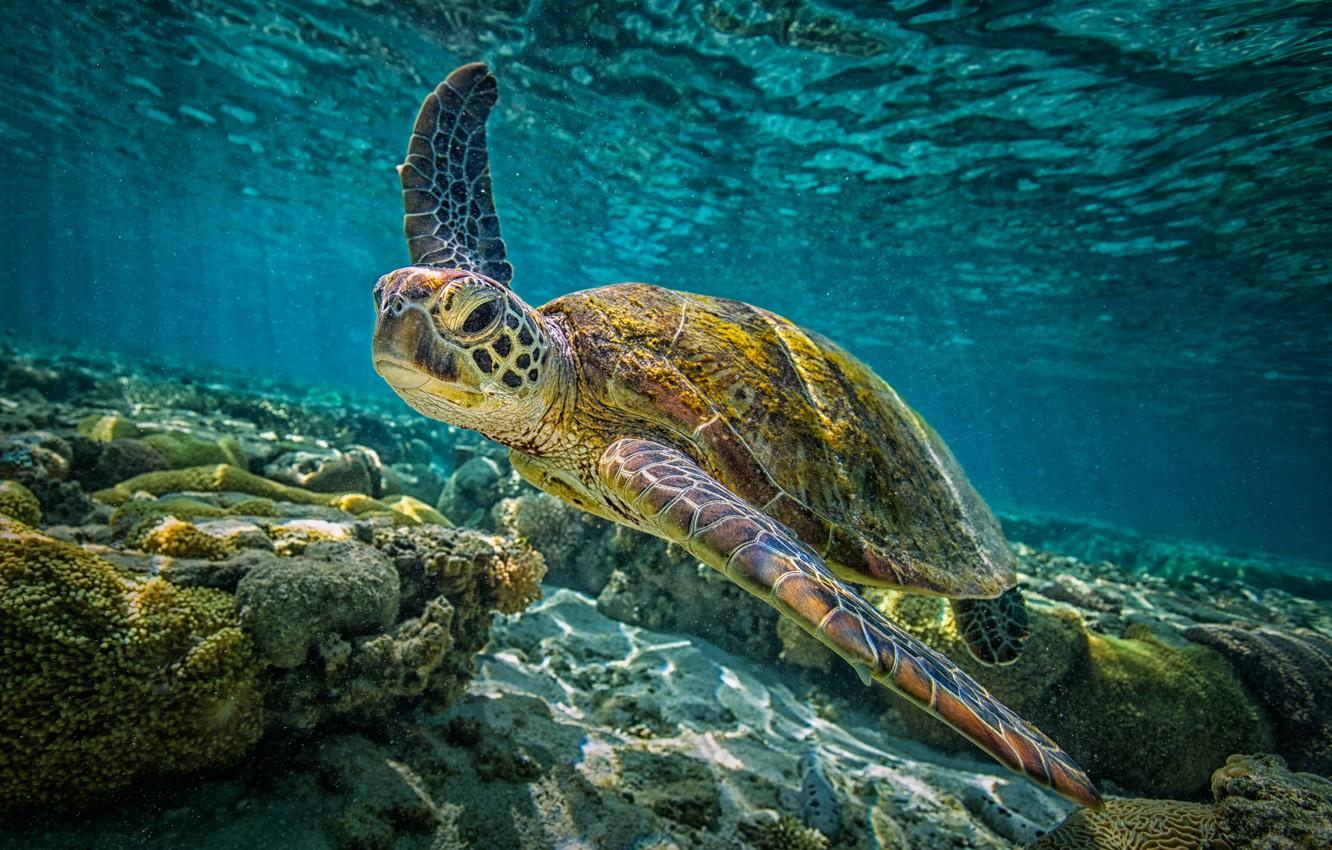turtle: (369, 61, 1109, 814)
